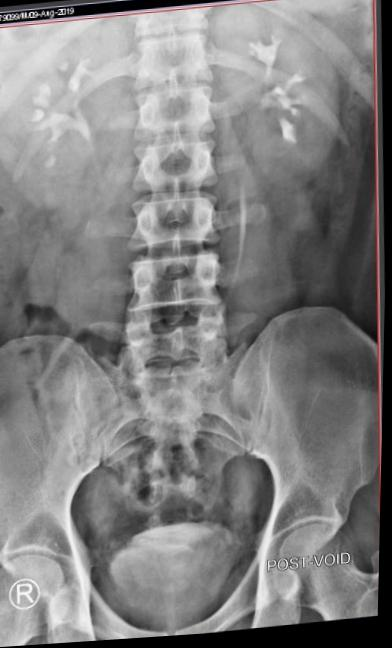bladder: (111, 527, 251, 641)
left kidney: (221, 0, 356, 196)
right kidney: (0, 29, 115, 231)
vertebrae: (142, 79, 218, 139)
